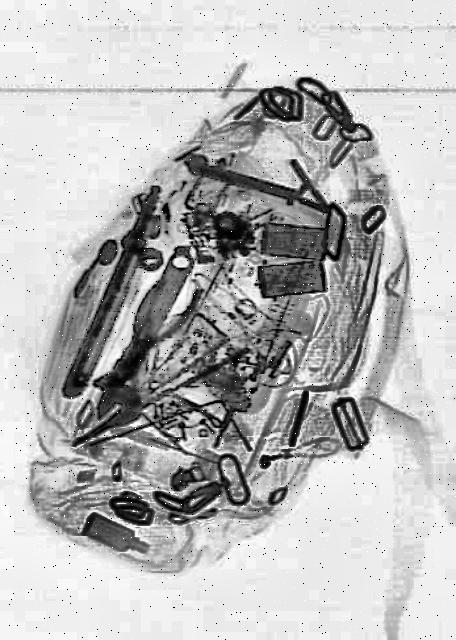Pliers: (70, 327, 252, 455), (99, 252, 209, 398)
Wrench: (94, 235, 210, 438)
